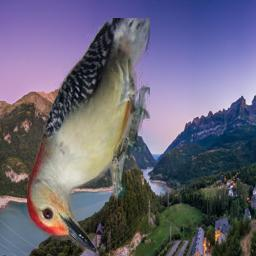Woodpecker: (28, 19, 151, 254)
